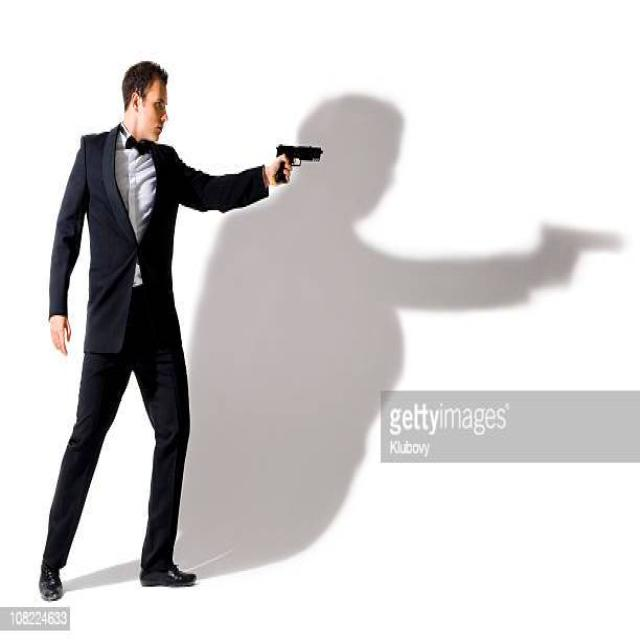HandGun: (275, 146, 322, 184)
